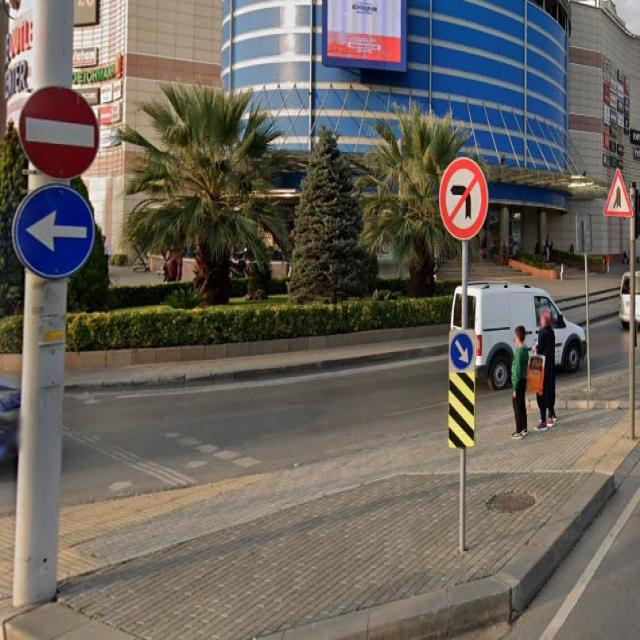girisyok: (19, 86, 100, 178)
sol: (12, 184, 95, 278)
soladonulmez: (439, 157, 488, 238)
